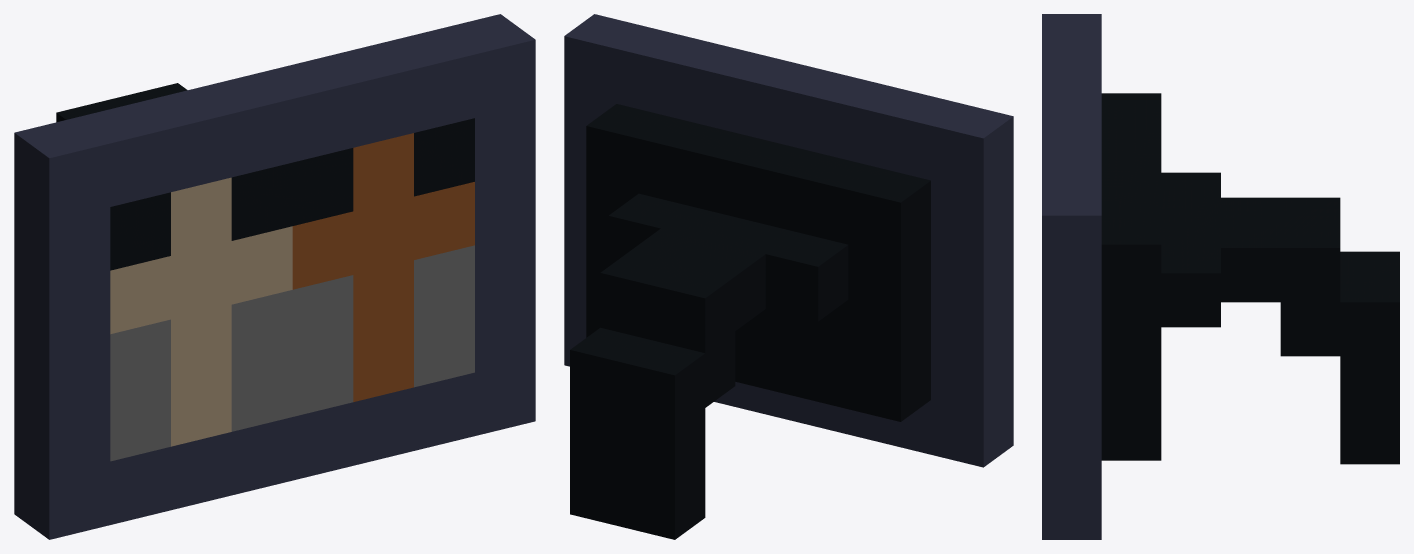
File: FamilyFrame.obj
The picture shows the model from 3 angles, left to right: view 1: azimuth 30°, elevation 25°; view 2: azimuth 150°, elevation 25°; view 3: azimuth 270°, elevation 25°; orthographic projection. The views are drawn at different scales.
Bounding box in the file's own units: 0.8 × 0.6 × 0.6.
1 material, 1 textured.
